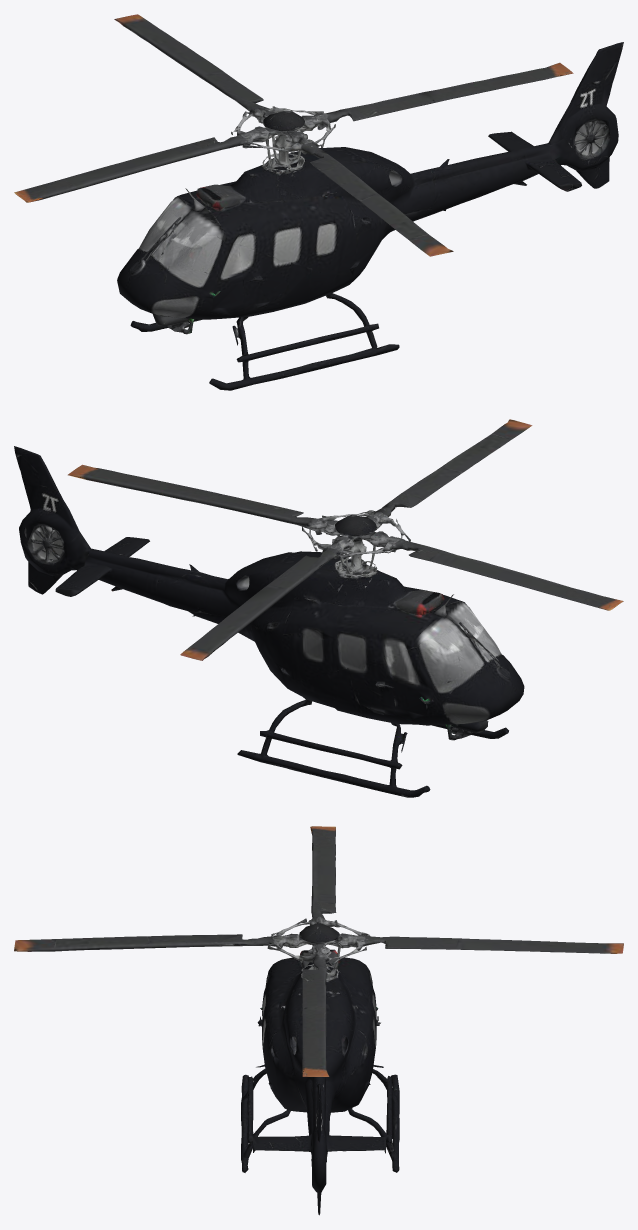
The model's file is helicopter_p.glb.
The picture shows the model from 3 angles, top to bottom: view 1: azimuth 30°, elevation 25°; view 2: azimuth 150°, elevation 25°; view 3: azimuth 270°, elevation 25°; orthographic projection. The views are drawn at different scales.
Bounding box in the file's own units: 1.9 × 0.6819 × 1.76.
Materials: 1 (1 with a texture image).
